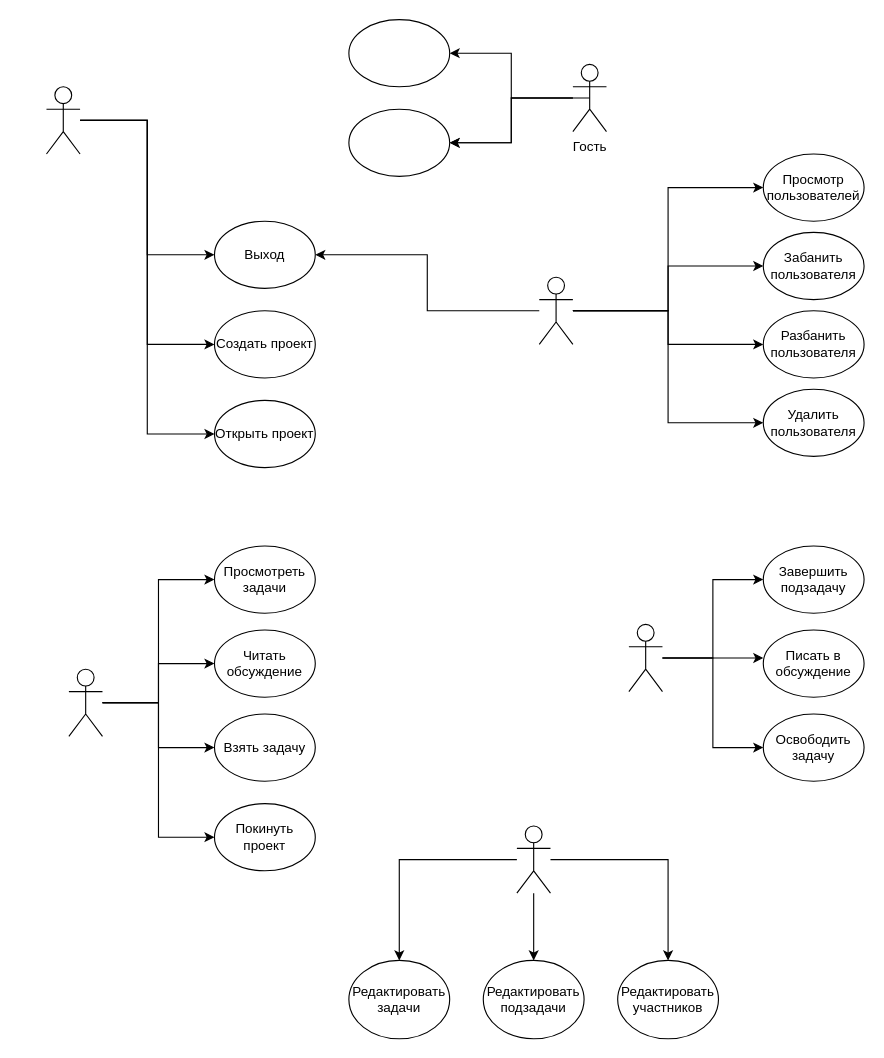
Some shapes in this 884 by 1058 pixel diagram are drawn without their labels. The shapes that lost their labels are listed below. From the top down, each one's centre as x and y in pixels, then its label:
At point (399, 52): "Регистрация".
At point (62, 120): "Пользователь".
At point (399, 142): "Вход".
At point (555, 310): "Админ".
At point (645, 657): "Исполнитель задачи".
At point (85, 702): "Участник проекта".
At point (533, 859): "Владелец проекта".
